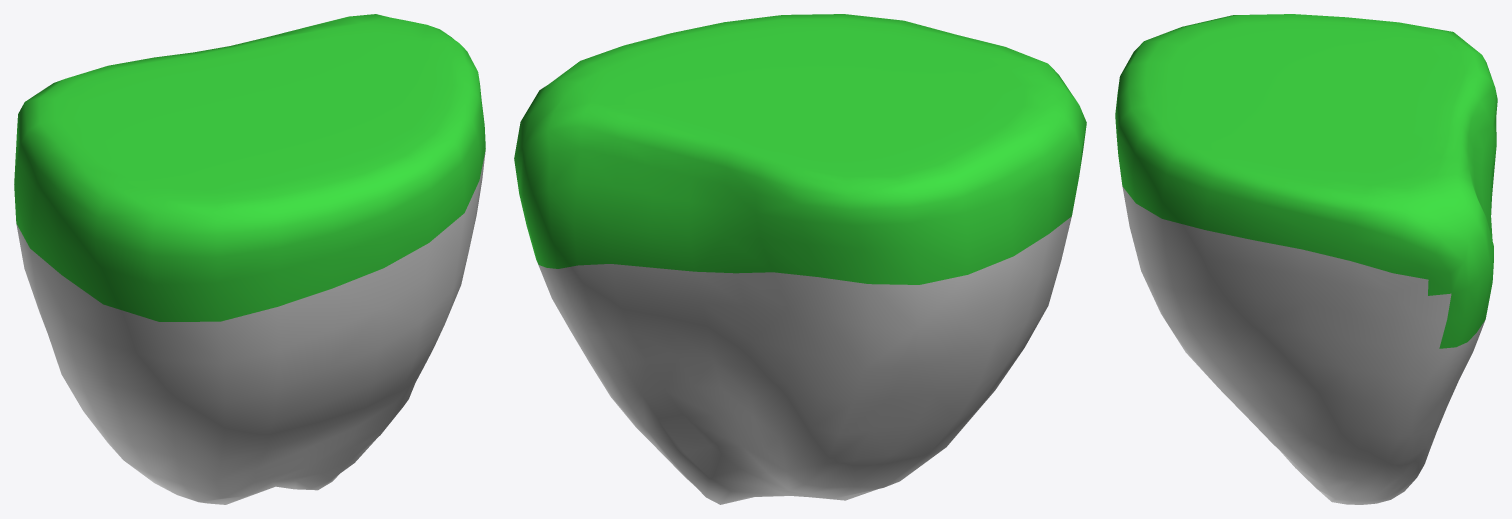
Rendered from platform_r_1_02.fbx.
The picture shows the model from 3 angles, left to right: view 1: azimuth 30°, elevation 25°; view 2: azimuth 150°, elevation 25°; view 3: azimuth 270°, elevation 25°; orthographic projection. The views are drawn at different scales.
Visible parts, largest first — view 1: platform_l_01; view 2: platform_l_01; view 3: platform_l_01.
Boxes of the visible parts, box(x1,y1,x2,y2) form: platform_l_01: box(14, 14, 485, 504); platform_l_01: box(514, 14, 1086, 504); platform_l_01: box(1115, 14, 1497, 504).
Size of the model in its own units: 9.25 by 7.84 by 7.23.
